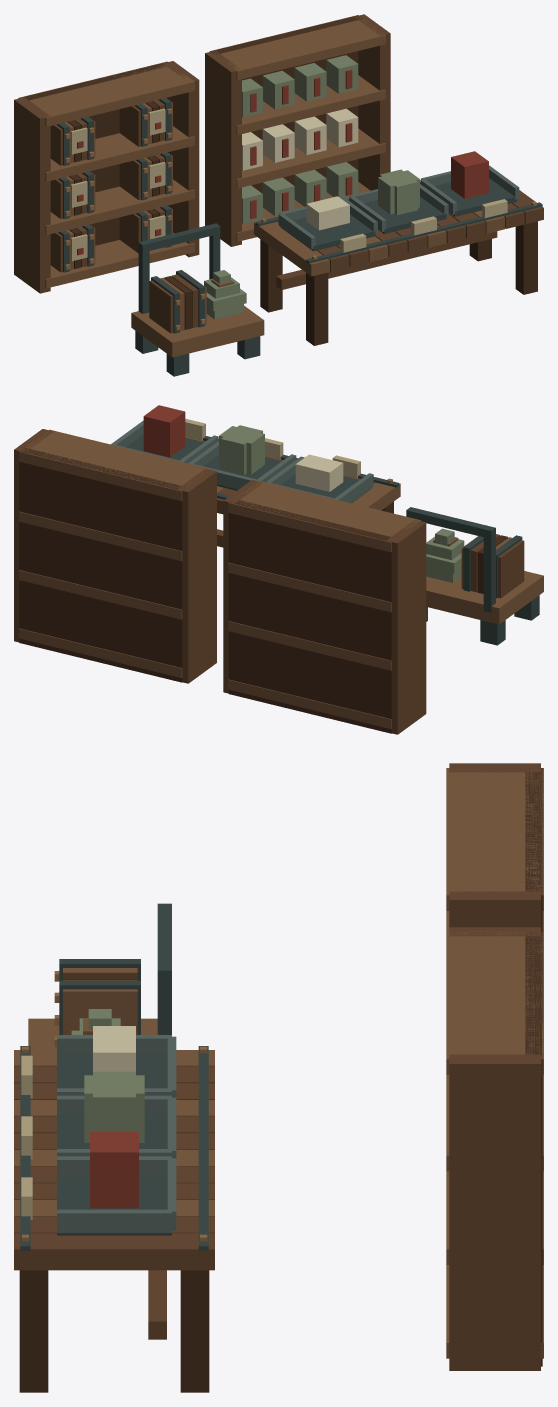
Rendered from B28_shop.glb.
3 renders of one model, top to bottom at view 1: azimuth 30°, elevation 25°; view 2: azimuth 150°, elevation 25°; view 3: azimuth 270°, elevation 25°, orthographic. The views are drawn at different scales.
Parts seen in each view (by area): view 1: B28_shop__supply_shelves_ShelfBoard_woodlight, B28_shop__display_shelves_ShelfBoard_woodlight, B28_shop__display_shelves_ShelfUpright_wood, B28_shop__supply_shelves_ShelfUpright_wood, B28_shop__display_shelves_MedicalPack_cloth, B28_shop__main_station_TableLegs_wooddark, B28_shop__supply_shelves_CratePlanks_wood, B28_shop__display_shelves_MedicalPack_bone, B28_shop__main_station_Tray_iron, B28_shop__restock_CartBed_woodlight, B28_shop__main_station_TrayRim_edge, B28_shop__main_station_TableTop_wood (+21 smaller); view 2: B28_shop__display_shelves_ShelfBack_wooddark, B28_shop__supply_shelves_ShelfBack_wooddark, B28_shop__display_shelves_ShelfBoard_woodlight, B28_shop__supply_shelves_ShelfBoard_woodlight, B28_shop__supply_shelves_ShelfUpright_wood, B28_shop__display_shelves_ShelfUpright_wood, B28_shop__restock_CartBed_woodlight, B28_shop__main_station_TrayRim_edge, B28_shop__restock_CartHandle_iron, B28_shop__main_station_Cylinder_cloth, B28_shop__main_station_Supply_red, B28_shop__main_station_Tray_iron (+7 smaller); view 3: B28_shop__display_shelves_ShelfUpright_wood, B28_shop__main_station_TableTop_wood, B28_shop__display_shelves_ShelfBoard_woodlight, B28_shop__supply_shelves_ShelfBoard_woodlight, B28_shop__main_station_TrayRim_edge, B28_shop__main_station_TableLegs_wooddark, B28_shop__main_station_Tray_iron, B28_shop__supply_shelves_ShelfUpright_wood, B28_shop__main_station_TableTop_woodlight, B28_shop__main_station_Supply_red, B28_shop__main_station_Cylinder_cloth, B28_shop__main_station_TableBands_iron (+9 smaller).
Part boxes in pixels (box(x1,y1,x2,y2)): B28_shop__supply_shelves_ShelfBoard_woodlight: box(18, 61, 194, 288); B28_shop__display_shelves_ShelfBoard_woodlight: box(209, 15, 385, 241); B28_shop__display_shelves_ShelfUpright_wood: box(205, 14, 390, 246); B28_shop__supply_shelves_ShelfUpright_wood: box(14, 61, 199, 293); B28_shop__display_shelves_MedicalPack_cloth: box(242, 55, 358, 223); B28_shop__main_station_TableLegs_wooddark: box(260, 221, 537, 345); B28_shop__supply_shelves_CratePlanks_wood: box(50, 100, 164, 272); B28_shop__display_shelves_MedicalPack_bone: box(242, 108, 358, 170); B28_shop__main_station_Tray_iron: box(280, 178, 517, 251); B28_shop__restock_CartBed_woodlight: box(131, 305, 264, 357); B28_shop__main_station_TrayRim_edge: box(278, 165, 519, 249); B28_shop__main_station_TableTop_wood: box(278, 190, 543, 271); B28_shop__display_shelves_ShelfBack_wooddark: box(19, 447, 185, 682); B28_shop__supply_shelves_ShelfBack_wooddark: box(228, 499, 391, 733); B28_shop__display_shelves_ShelfBoard_woodlight: box(19, 429, 212, 677); B28_shop__supply_shelves_ShelfBoard_woodlight: box(228, 480, 421, 728); B28_shop__supply_shelves_ShelfUpright_wood: box(223, 480, 426, 734); B28_shop__display_shelves_ShelfUpright_wood: box(14, 429, 216, 683); B28_shop__restock_CartBed_woodlight: box(426, 571, 543, 624); B28_shop__main_station_TrayRim_edge: box(111, 420, 373, 502); B28_shop__restock_CartHandle_iron: box(406, 507, 495, 612); B28_shop__main_station_Cylinder_cloth: box(219, 425, 264, 475); B28_shop__main_station_Supply_red: box(143, 405, 185, 457); B28_shop__main_station_Tray_iron: box(126, 434, 371, 503); B28_shop__display_shelves_ShelfUpright_wood: box(449, 927, 540, 1370); B28_shop__main_station_TableTop_wood: box(14, 1066, 214, 1270); B28_shop__display_shelves_ShelfBoard_woodlight: box(446, 931, 543, 1358); B28_shop__supply_shelves_ShelfBoard_woodlight: box(446, 768, 543, 931); B28_shop__main_station_TrayRim_edge: box(57, 1035, 176, 1232); B28_shop__main_station_TableLegs_wooddark: box(19, 1270, 209, 1392); B28_shop__main_station_Tray_iron: box(57, 1053, 171, 1235); B28_shop__supply_shelves_ShelfUpright_wood: box(449, 763, 540, 927); B28_shop__main_station_TableTop_woodlight: box(14, 1050, 214, 1216); B28_shop__main_station_Supply_red: box(90, 1131, 138, 1208); B28_shop__main_station_Cylinder_cloth: box(84, 1071, 144, 1142); B28_shop__main_station_TableBands_iron: box(20, 1046, 208, 1250).
Bounding box in the file's own units: 5.37 × 2.36 × 3.69.
